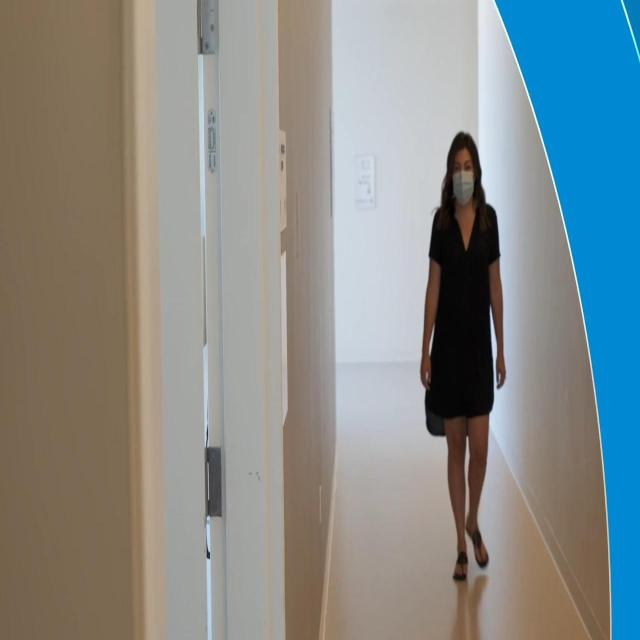Mask: (451, 148, 477, 208)
